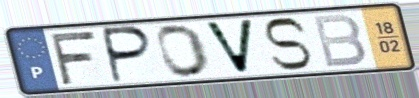B: (309, 12, 369, 70)
F: (46, 29, 99, 87)
O: (154, 22, 213, 79)
P: (102, 25, 156, 86)
S: (260, 16, 315, 72)
V: (201, 17, 257, 76)
